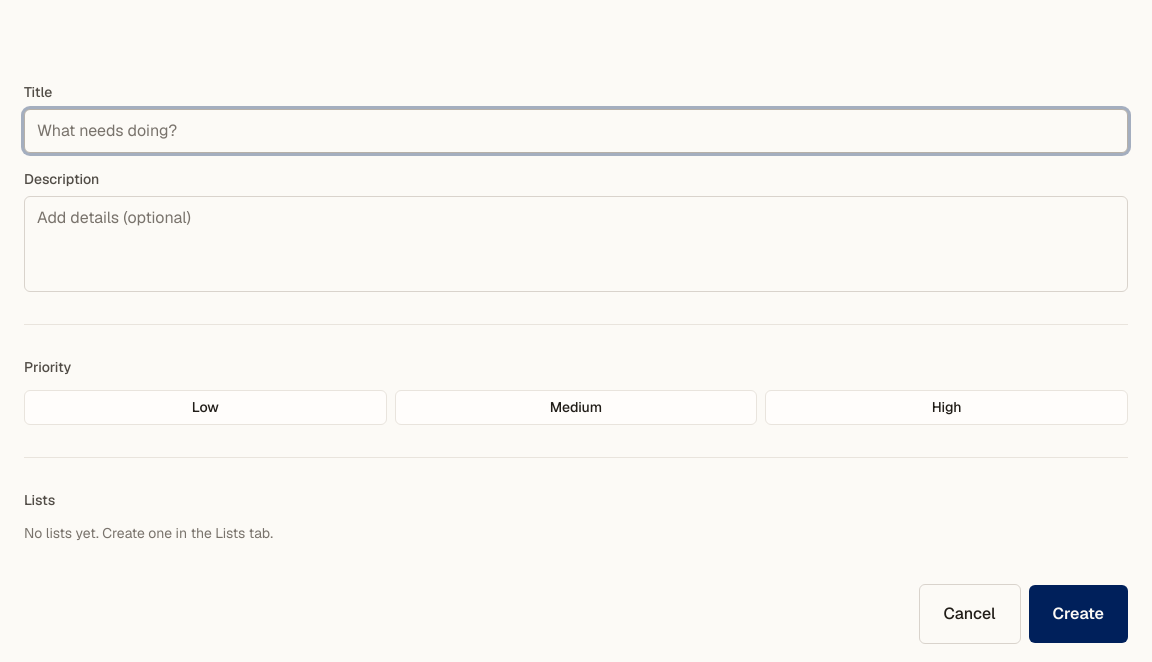
it: NewTodoPage › validates that title is required
(page scrolled)
Step 1. Click the button "Create" → (1078, 614), box [1029,585,1128,643]
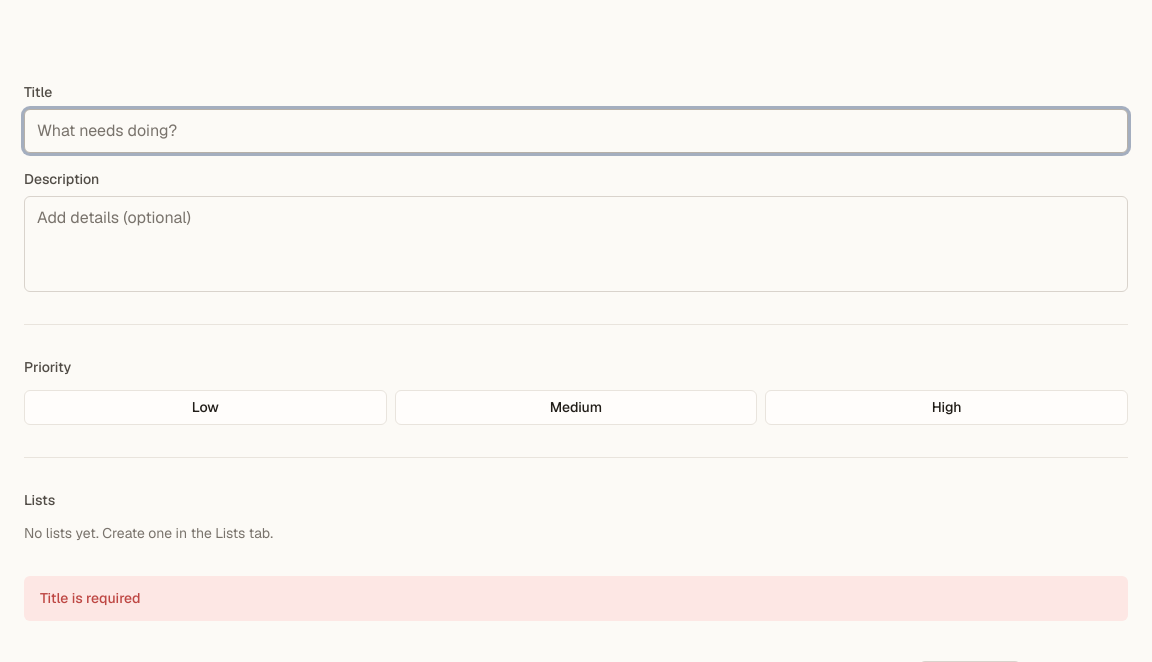
Result: the message reads "Title is required" at [40,589,141,607]
